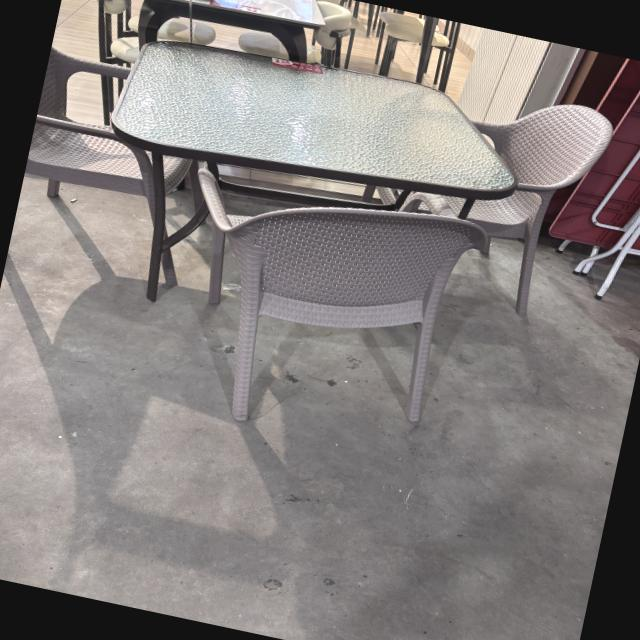Chair: (136, 160, 506, 474), (381, 75, 622, 340)
